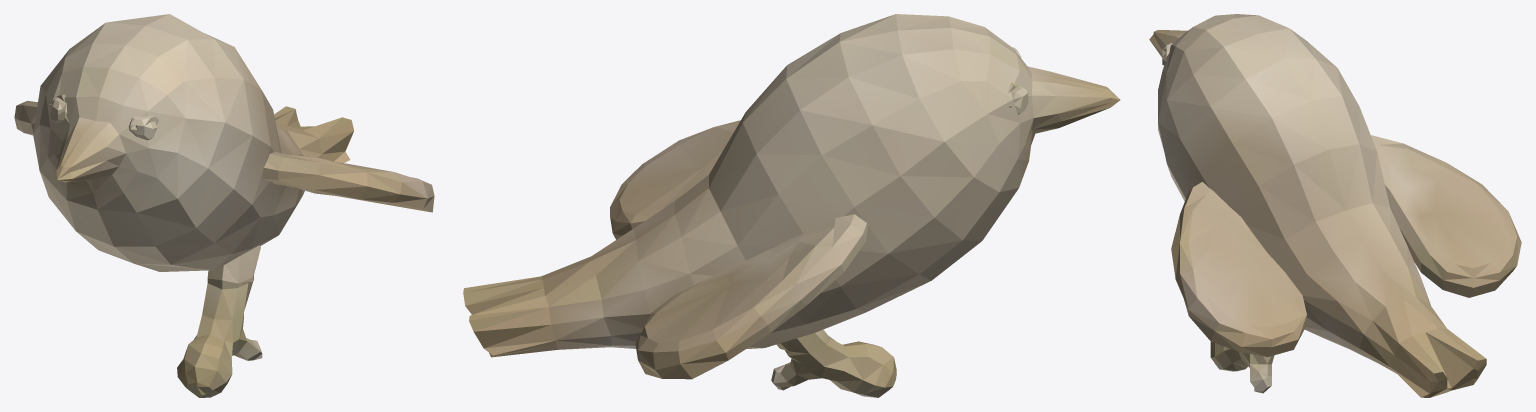
File: bird.glb
The picture shows the model from 3 angles, left to right: view 1: azimuth 30°, elevation 25°; view 2: azimuth 150°, elevation 25°; view 3: azimuth 270°, elevation 25°; orthographic projection. The views are drawn at different scales.
Visible parts, largest first — view 1: geometry_0; view 2: geometry_0; view 3: geometry_0.
Boxes of the visible parts, x1,y1,x2,y2 form: geometry_0: [14, 14, 434, 397]; geometry_0: [463, 14, 1120, 397]; geometry_0: [1149, 14, 1521, 397].
Bounding box in the file's own units: 0.0508 × 0.0391 × 0.0415.
